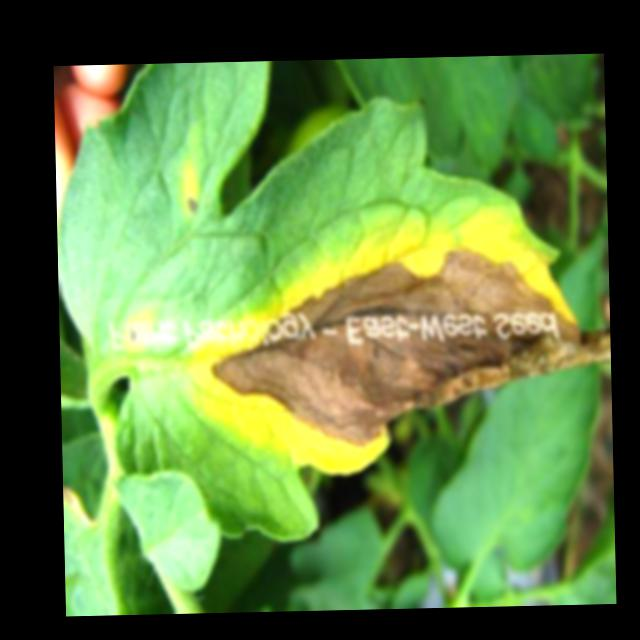Early_blight: (180, 210, 613, 477), (123, 322, 139, 348), (179, 197, 199, 216)
